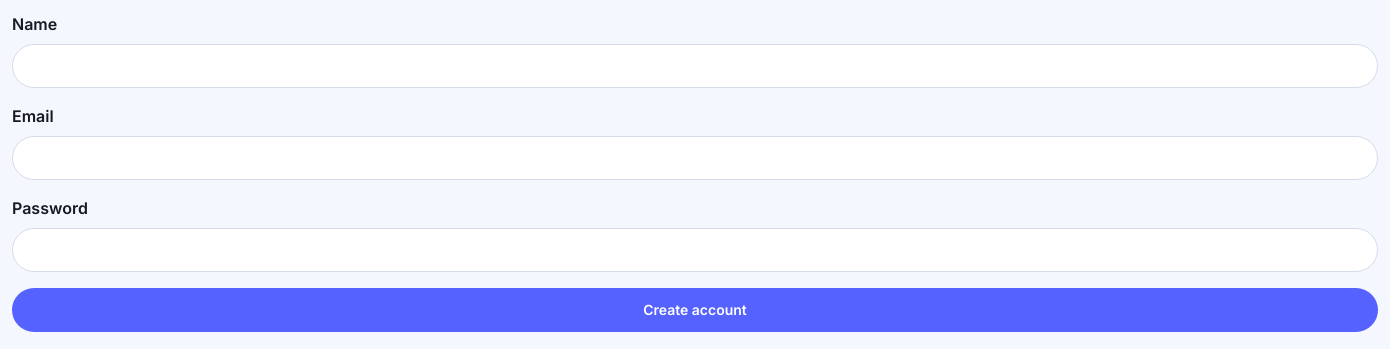
Test: RegisterForm › disables controls and shows loading label while submitting
Type "janedoe" into the field labelled "Name".
click(695, 66); type("janedoe")  # box [12, 44, 1378, 88]
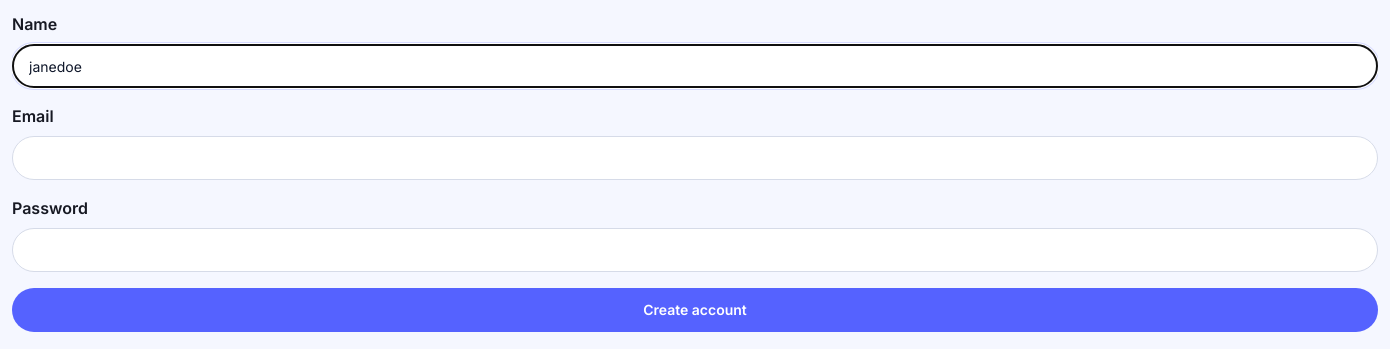
Type "jane@example.com" into the field labelled "Email".
click(695, 158); type("jane@example.com")  # box [12, 136, 1378, 180]
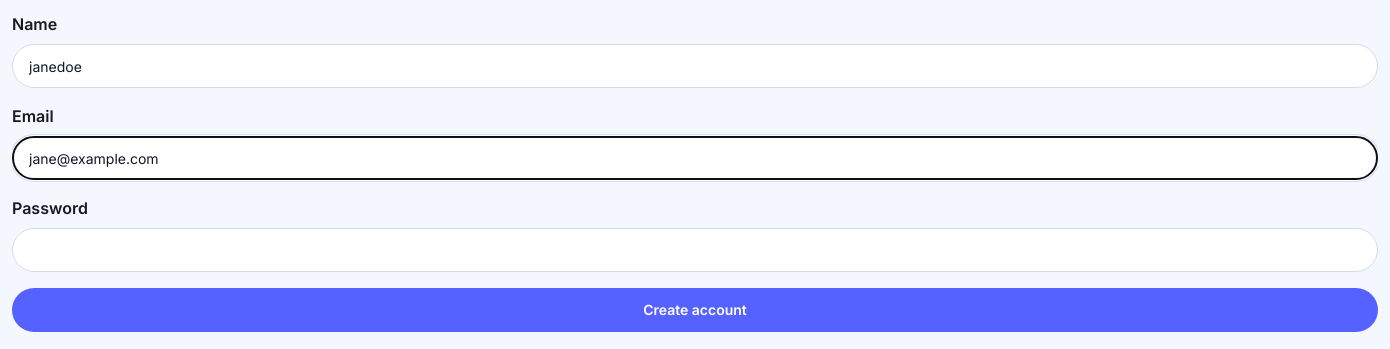
Type "secret1" into the password field labelled "Password".
click(695, 250); type("secret1")  # box [12, 228, 1378, 272]
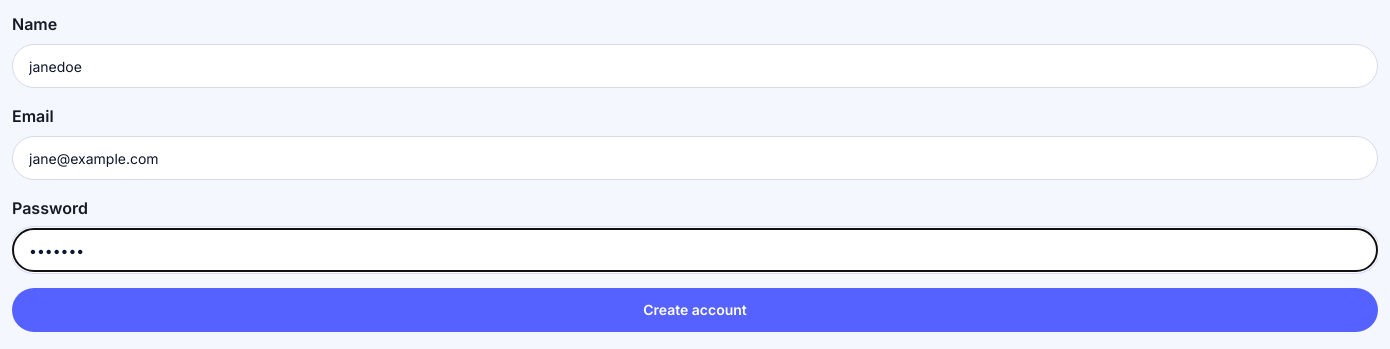
Click the button "Create account".
click(695, 310)  # box [12, 288, 1378, 332]
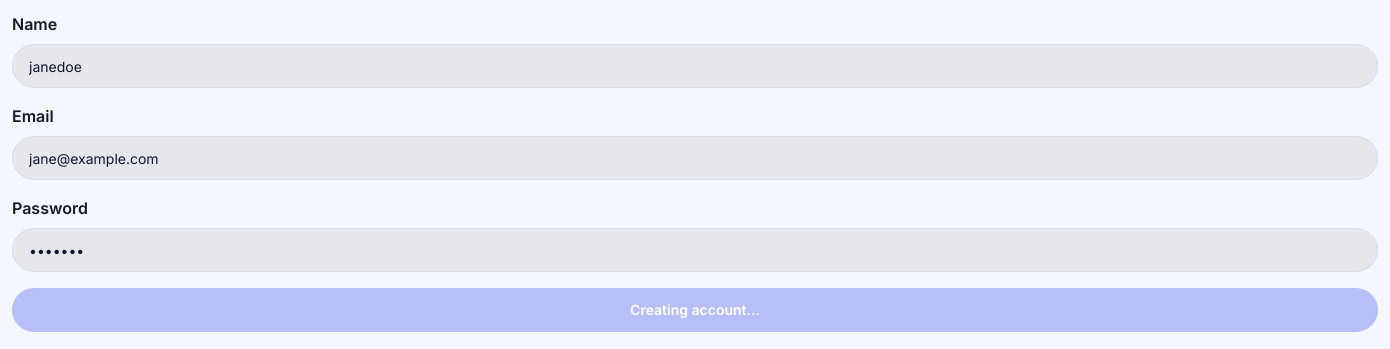
Now the button "Creating account..." is disabled, box [12, 288, 1378, 332]
Now the field labelled "Name" is disabled, box [12, 44, 1378, 88]
Now the field labelled "Email" is disabled, box [12, 136, 1378, 180]
